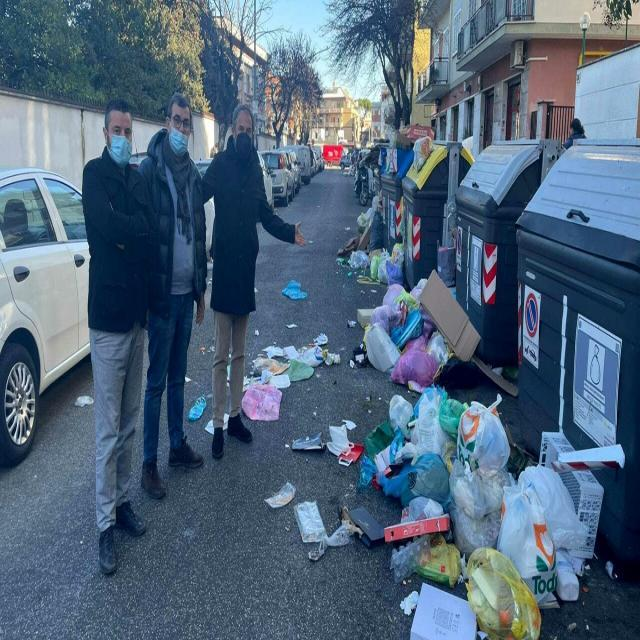garbage: (345, 400, 626, 640), (349, 274, 487, 395), (260, 469, 347, 585), (247, 327, 342, 425), (346, 200, 406, 274), (282, 428, 365, 470), (407, 116, 444, 180)
